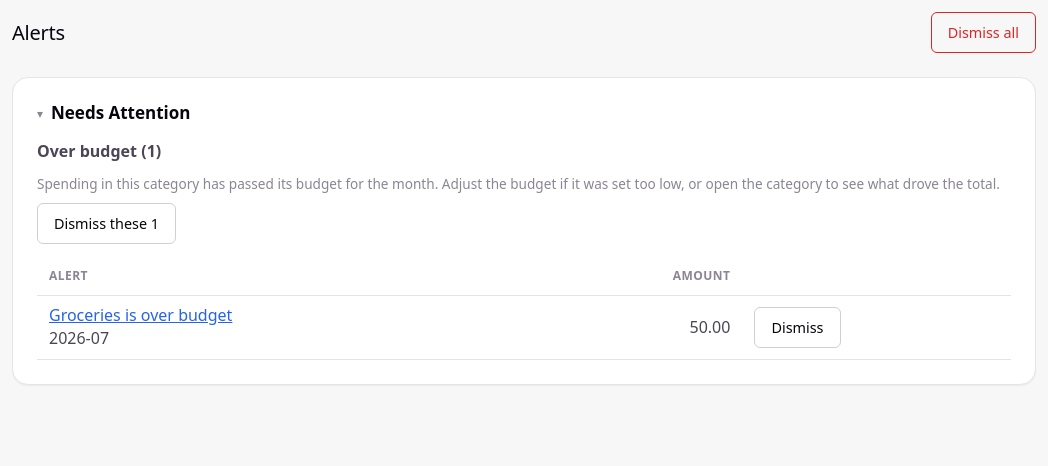
Test: AlertsPage › shows an error when dismissing fails
The width and height of the screenshot is (1048, 466).
Click the button "Dismiss" at point(797, 327), box [754,307,840,348]
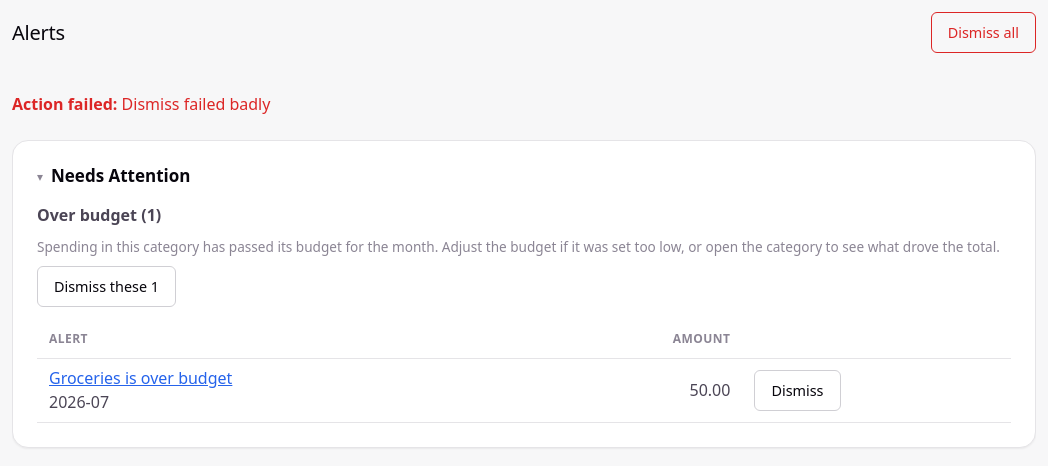
expect the text "Action failed: Dismiss failed badly" is shown: met, box [12,93,270,115]
